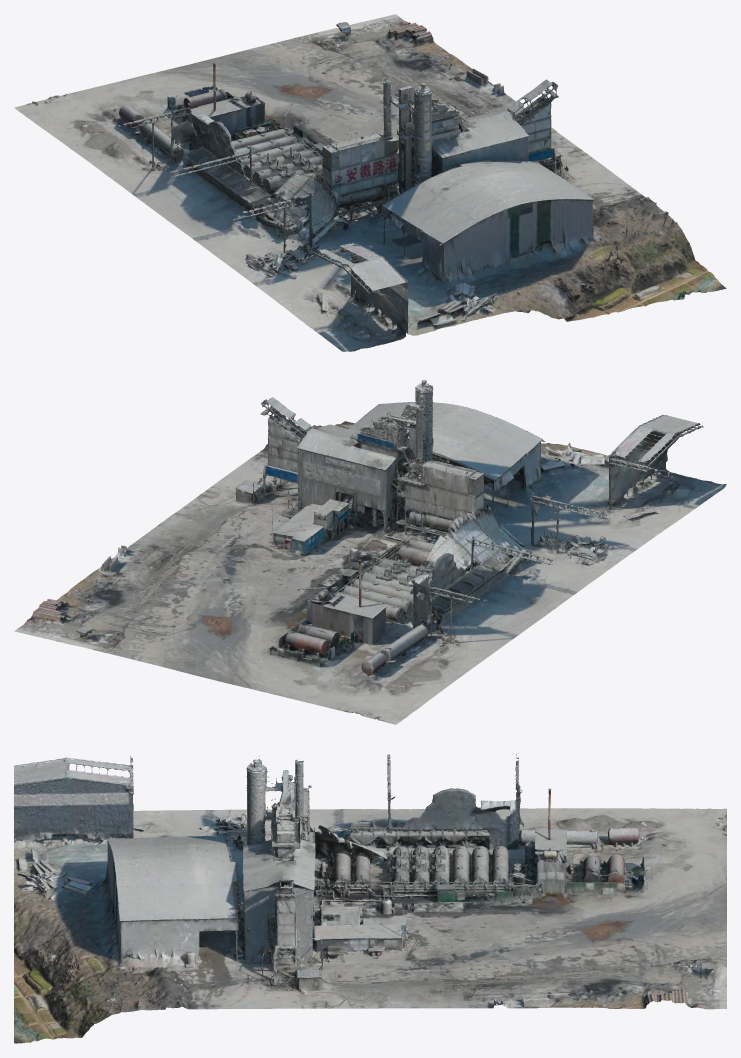
Rendered from factory_plant.glb.
3 renders of one model, top to bottom at view 1: azimuth 30°, elevation 25°; view 2: azimuth 150°, elevation 25°; view 3: azimuth 270°, elevation 25°, orthographic. The views are drawn at different scales.
Parts seen in each view (by area): view 1: Object_2; view 2: Object_2; view 3: Object_2.
Boxes of the visible parts, x1,y1,x2,y2 form: Object_2: (14, 14, 726, 351); Object_2: (14, 380, 726, 724); Object_2: (14, 753, 726, 1043).
Size of the model in its own units: 222 by 94.38 by 334.
1 material, 1 textured.
